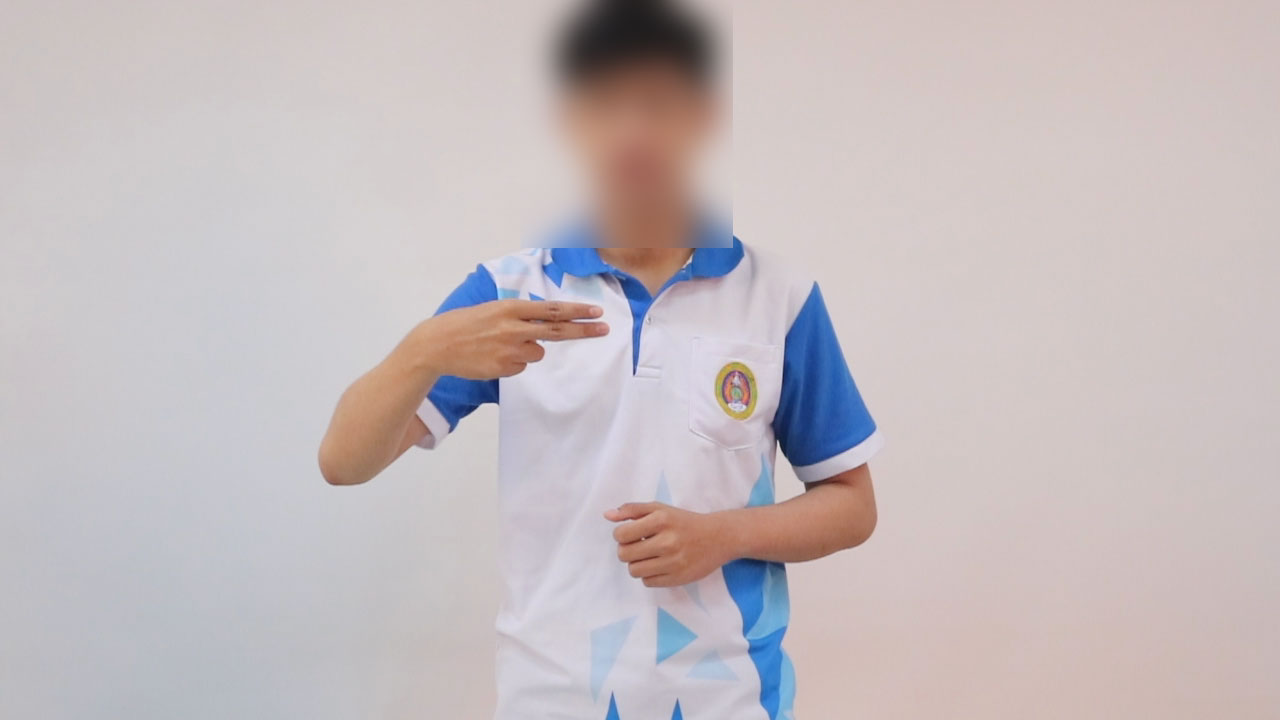hor: (394, 292, 623, 391)
